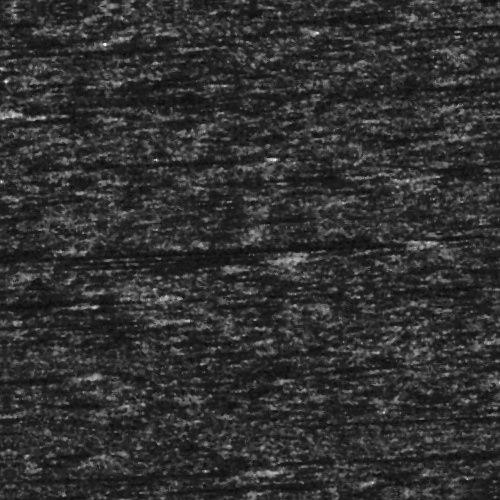object: (119, 305, 234, 322), (238, 150, 331, 161), (0, 97, 60, 106), (0, 256, 45, 267), (301, 348, 354, 357), (69, 364, 132, 371), (318, 481, 371, 488), (373, 244, 446, 249), (258, 256, 321, 261), (47, 237, 88, 244), (345, 178, 376, 181), (231, 469, 262, 472), (138, 289, 159, 292)
shadow: (0, 305, 177, 322), (59, 150, 284, 161), (0, 244, 409, 249), (174, 348, 327, 357), (327, 459, 500, 466), (61, 256, 289, 261), (193, 481, 344, 488), (304, 423, 500, 428), (0, 364, 100, 371), (13, 469, 246, 472), (0, 237, 67, 244), (211, 178, 360, 181), (0, 289, 148, 292), (452, 204, 500, 209), (468, 310, 500, 313)
